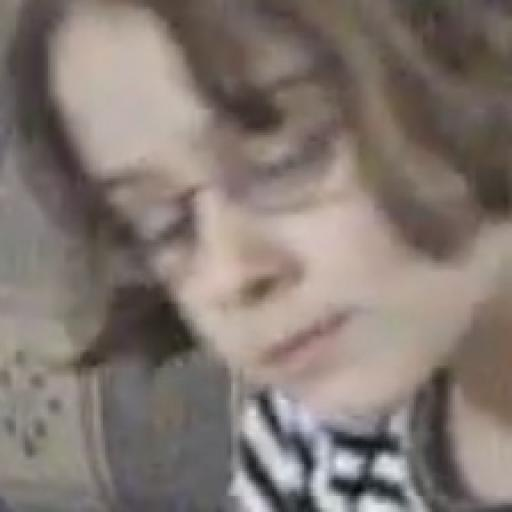Autism: (27, 2, 493, 448)
